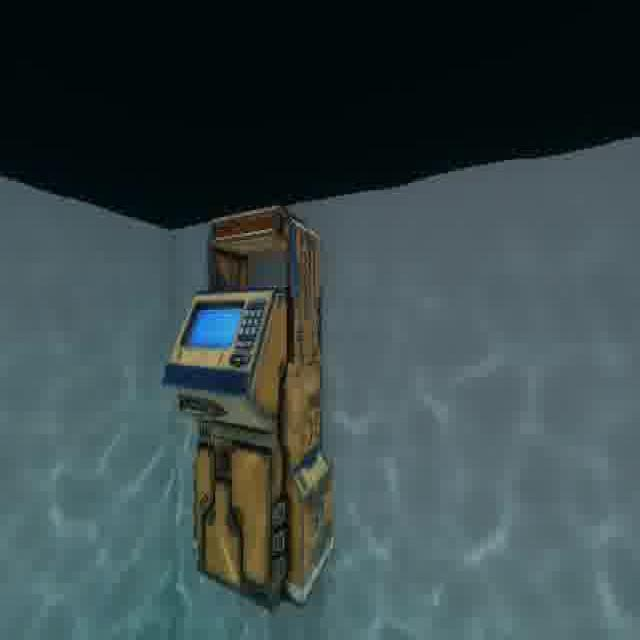Control Panel: (154, 193, 351, 620)
